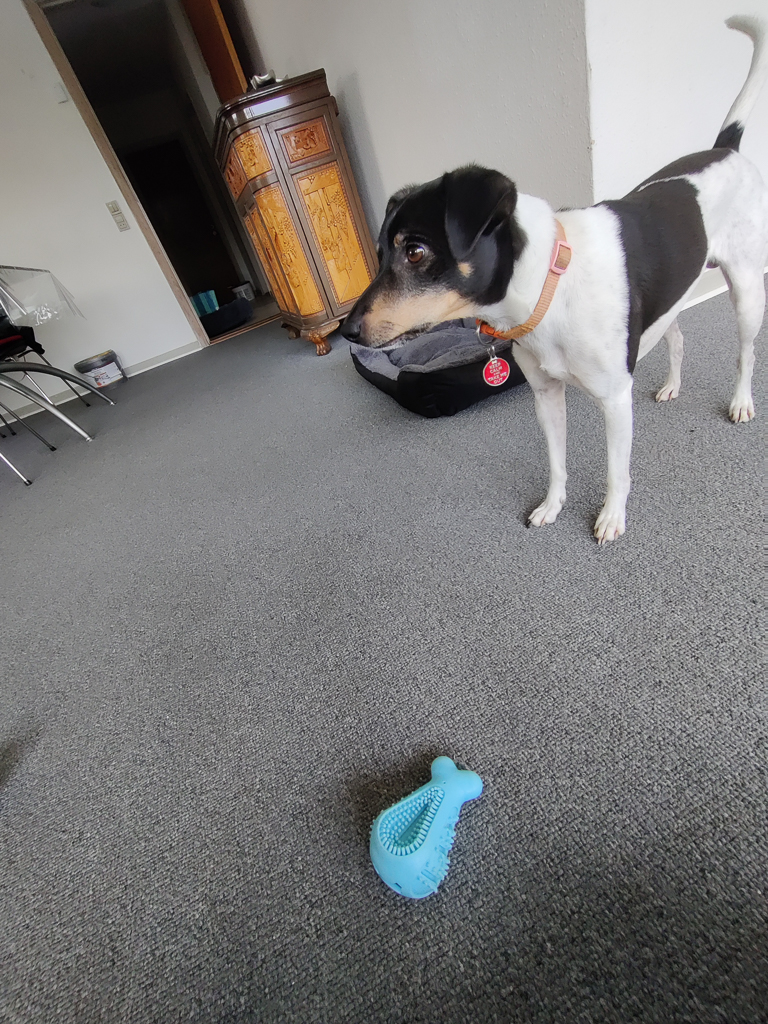Dog: (326, 7, 768, 553)
